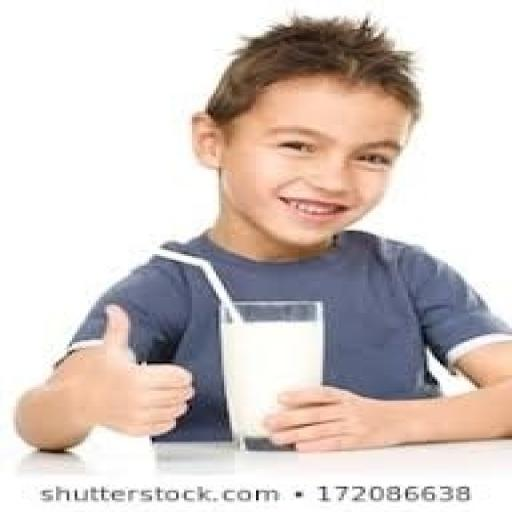drinking: (216, 299, 325, 451)
